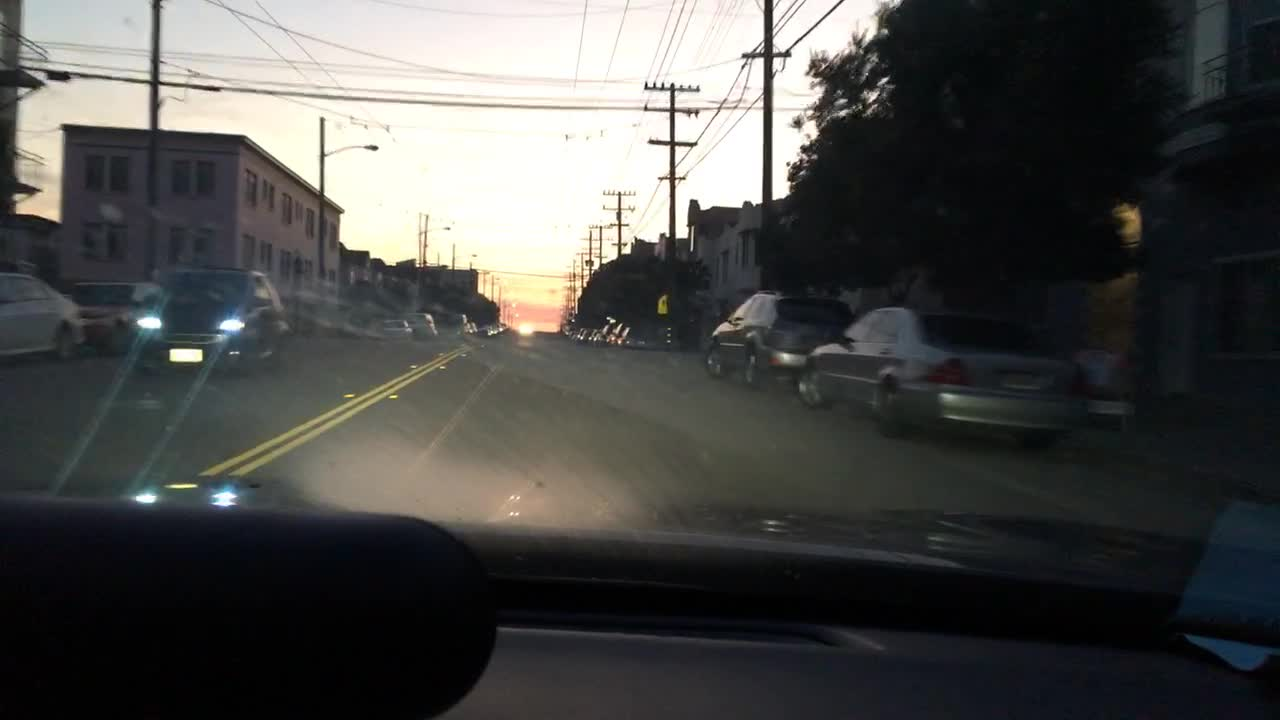car: (795, 306, 1090, 451), (133, 267, 290, 374), (703, 289, 853, 393), (0, 271, 86, 361), (70, 278, 163, 355), (404, 310, 437, 341), (434, 308, 467, 338), (381, 318, 411, 340), (624, 328, 649, 347), (609, 324, 626, 346), (599, 327, 613, 344), (591, 326, 604, 344), (567, 324, 579, 342), (465, 320, 477, 335), (582, 328, 594, 342), (575, 327, 586, 342), (561, 324, 573, 337), (490, 324, 502, 334), (478, 321, 487, 334), (501, 321, 512, 330)
traffic light: (686, 199, 701, 225), (655, 293, 668, 314)
